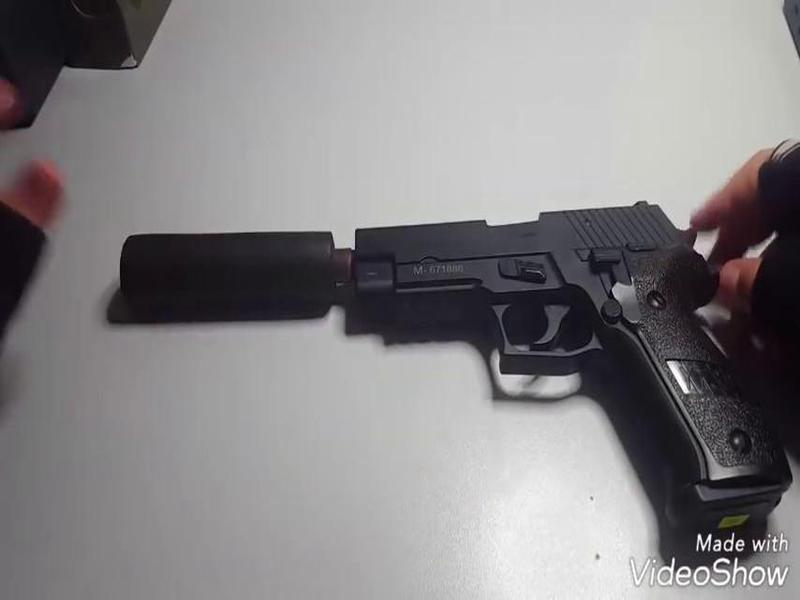Pistola: (342, 195, 791, 524)
